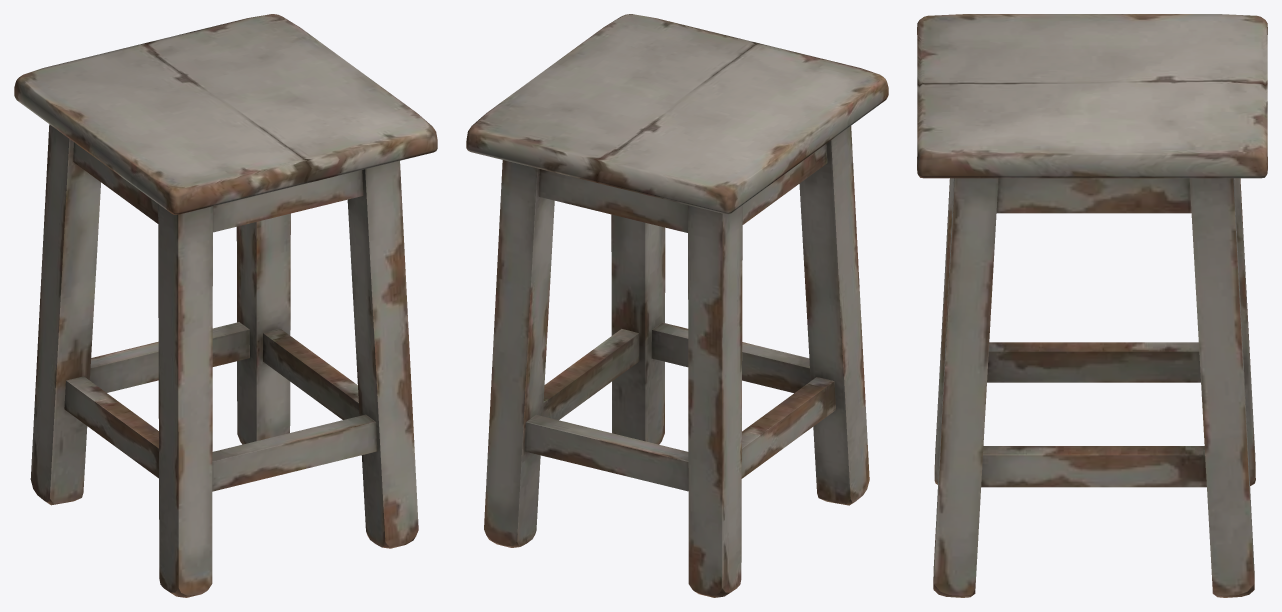
The model's file is painted_wooden_stool.glb.
3 renders of one model, left to right at view 1: azimuth 30°, elevation 25°; view 2: azimuth 150°, elevation 25°; view 3: azimuth 270°, elevation 25°, orthographic. The views are drawn at different scales.
Parts seen in each view (by area): view 1: painted_wooden_stool; view 2: painted_wooden_stool; view 3: painted_wooden_stool.
Part boxes in pixels (x1,y1,x2,y2): painted_wooden_stool: (14, 14, 437, 597); painted_wooden_stool: (466, 14, 888, 597); painted_wooden_stool: (917, 14, 1267, 597).
Size of the model in its own units: 0.3843 by 0.5789 by 0.4057.
1 material, 1 textured.
